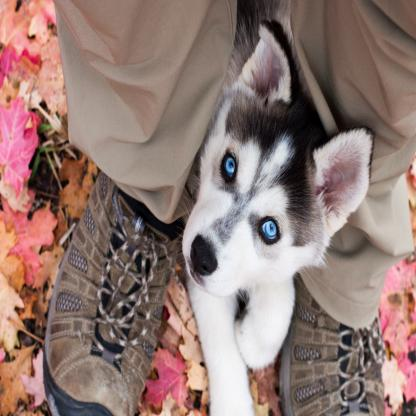dog: (178, 19, 375, 416)
